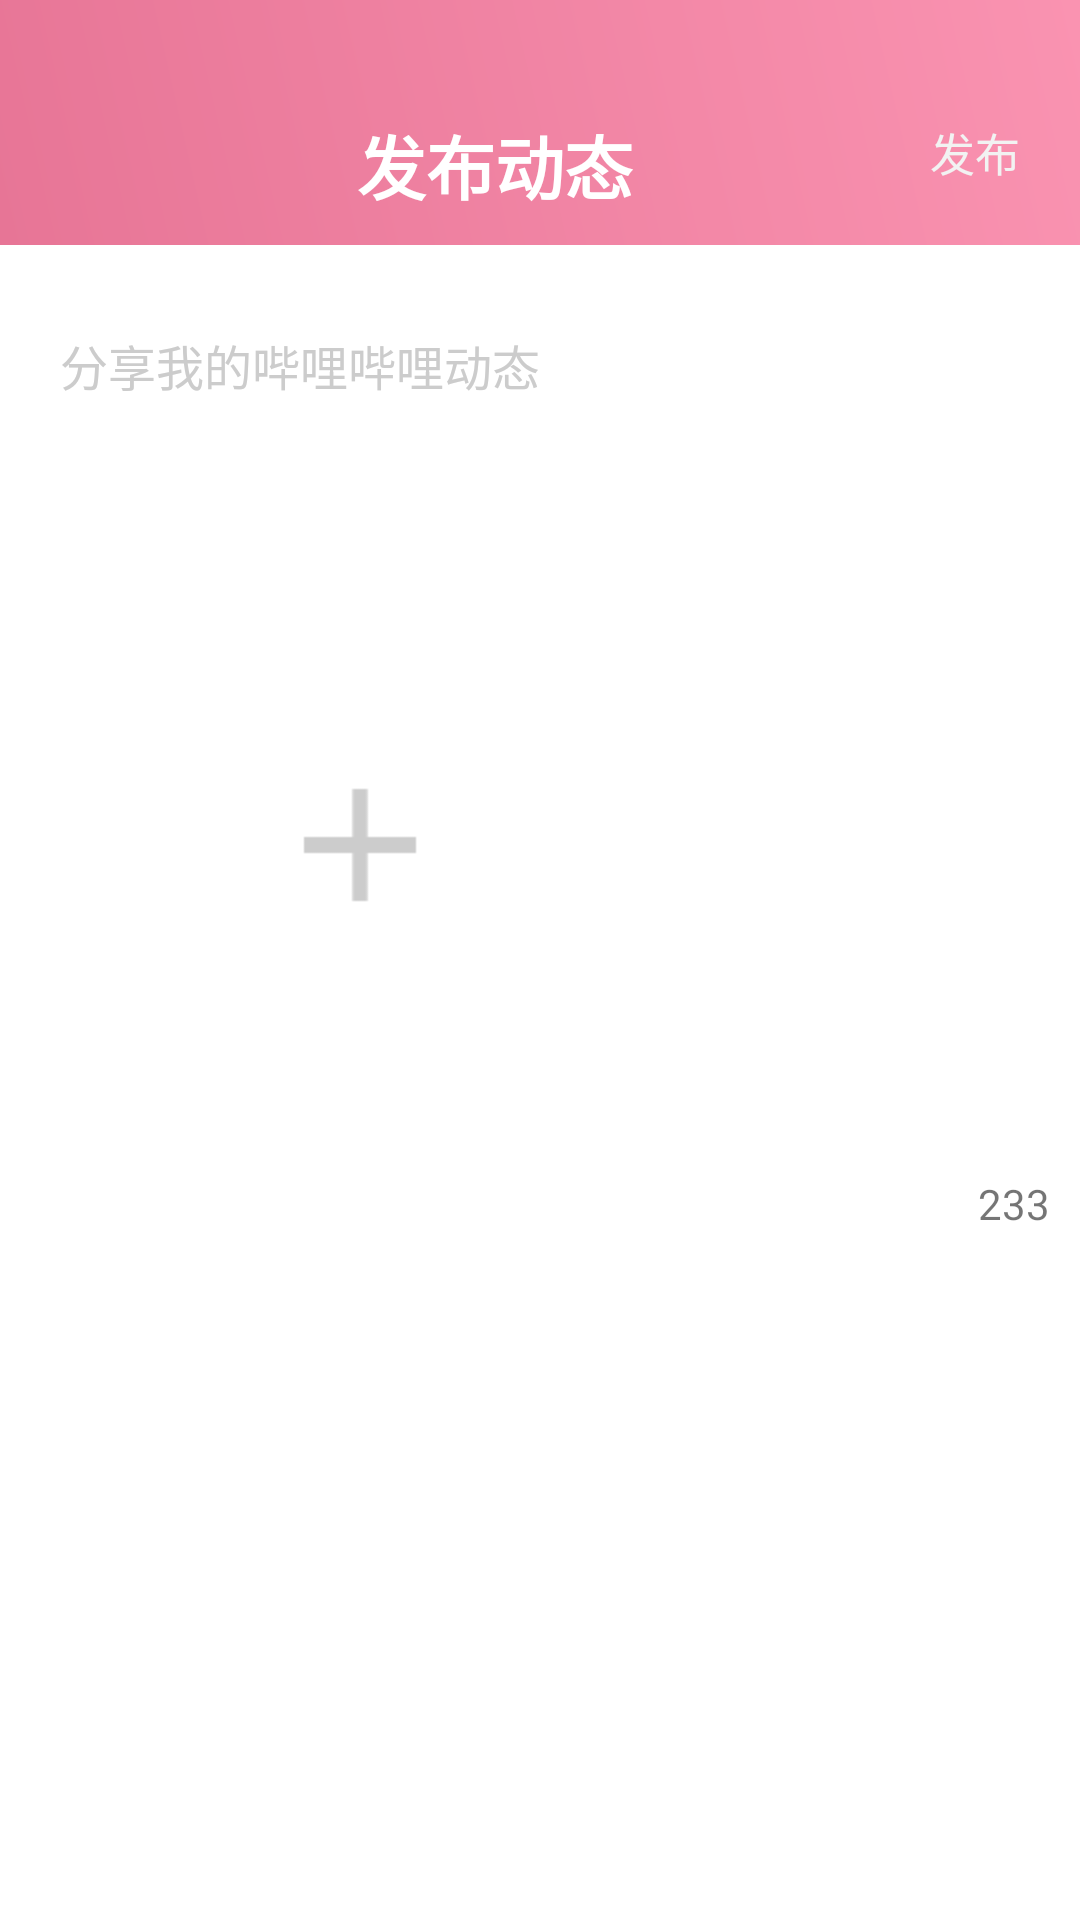

Named icons in this screenshot (1080px×1920px) and their bounding boxes, (x1, y1, x2, y2):
add: (304, 789, 416, 901)
